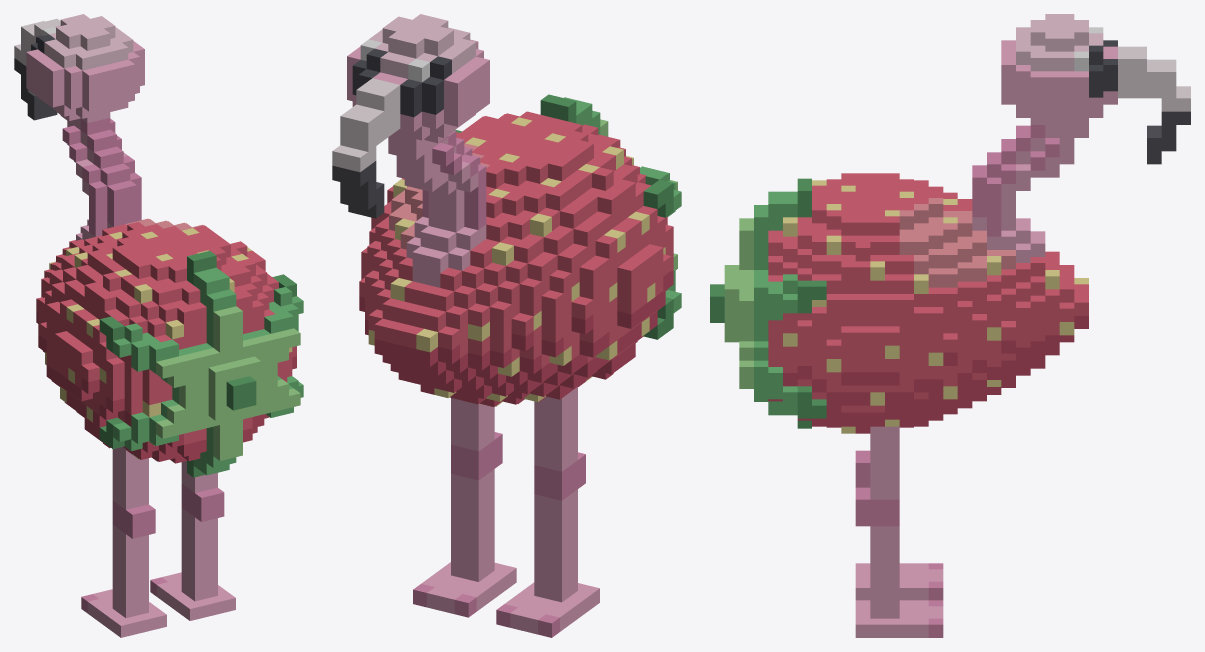
Rendered from StrawberelliFlamingelli.glb.
3 views of the same model, side by side, from view 1: azimuth 30°, elevation 25°; view 2: azimuth 150°, elevation 25°; view 3: azimuth 270°, elevation 25° (orthographic). The views are drawn at different scales.
Parts seen in each view (by area): view 1: geometry_0; view 2: geometry_0; view 3: geometry_0.
Part boxes in pixels (x1,y1,x2,y2): geometry_0: (14, 14, 303, 637); geometry_0: (332, 14, 681, 637); geometry_0: (710, 14, 1190, 637).
Size of the model in its own units: 0.4091 by 1 by 0.75.
